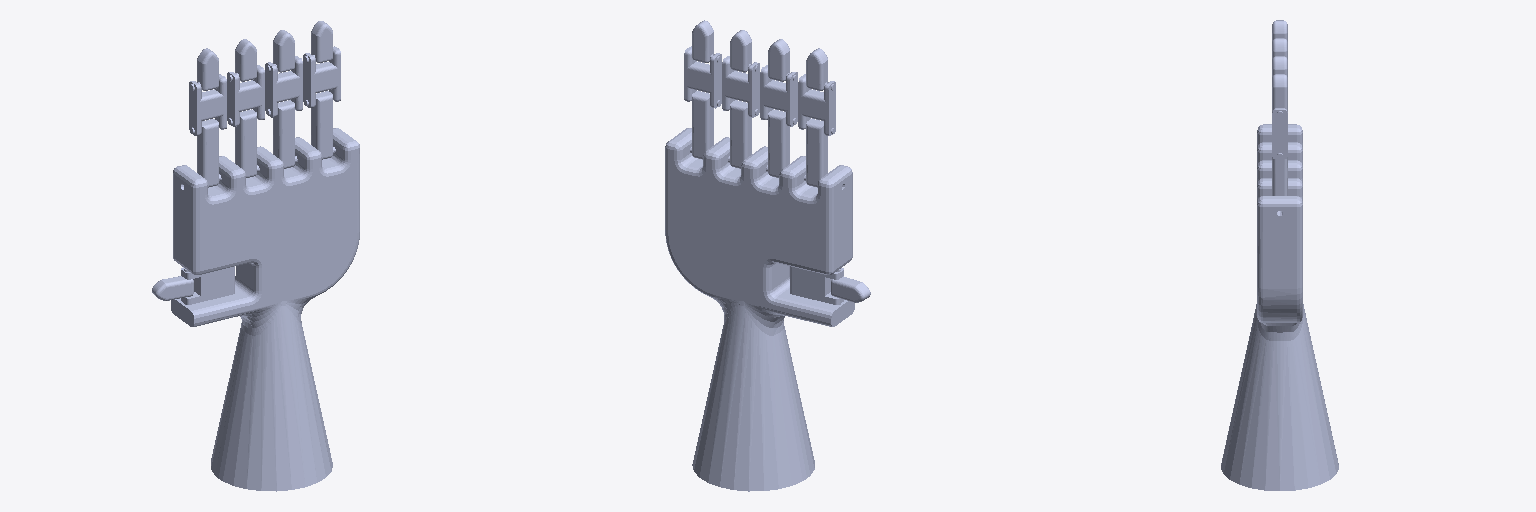
--- What the picture shows (computed from the rendered views, not written in the file) ---
3 views of the same robot in one strip: view 1: azimuth 30°, elevation 25°; view 2: azimuth 150°, elevation 25°; view 3: azimuth 270°, elevation 25° (orthographic).
Model hand_bot with 16 links and 15 joints (14 continuous, 1 fixed), rooted at dummy_link, posed every joint at zero.
Links seen in each view (by area): view 1: base_link, little_middle, ring_middle, index_middle, middle_middle, ring_lower, middle_lower, thumb_lower, index_lower, little_lower, index_tip, middle_tip (+3 smaller); view 2: base_link, ring_middle, index_middle, little_middle, middle_middle, index_lower, middle_lower, ring_lower, little_lower, thumb_lower, middle_tip, little_tip (+3 smaller); view 3: base_link, little_middle, little_lower, little_tip.
Boxes of the visible links, bbox=[...] form: base_link: bbox=[171, 128, 359, 491]; little_middle: bbox=[303, 46, 340, 107]; ring_middle: bbox=[265, 56, 302, 117]; index_middle: bbox=[189, 74, 226, 135]; middle_middle: bbox=[227, 65, 264, 126]; ring_lower: bbox=[266, 100, 297, 168]; middle_lower: bbox=[228, 109, 259, 177]; thumb_lower: bbox=[181, 266, 234, 304]; index_lower: bbox=[190, 119, 221, 187]; little_lower: bbox=[304, 91, 335, 159]; index_tip: bbox=[190, 48, 225, 90]; middle_tip: bbox=[228, 39, 262, 81]; base_link: bbox=[665, 128, 854, 491]; ring_middle: bbox=[722, 56, 759, 117]; index_middle: bbox=[798, 74, 835, 135]; little_middle: bbox=[684, 46, 721, 108]; middle_middle: bbox=[760, 65, 797, 126]; index_lower: bbox=[804, 119, 835, 187]; middle_lower: bbox=[766, 109, 797, 177]; ring_lower: bbox=[728, 100, 759, 168]; little_lower: bbox=[690, 91, 720, 159]; thumb_lower: bbox=[790, 266, 843, 304]; middle_tip: bbox=[762, 39, 797, 81]; little_tip: bbox=[687, 20, 721, 62]; base_link: bbox=[1221, 124, 1338, 490]; little_middle: bbox=[1272, 108, 1287, 158]; little_lower: bbox=[1272, 153, 1287, 195]; little_tip: bbox=[1272, 74, 1287, 116].
Size in the robot's own frame: 0.1821 by 0.0992 by 0.3838 metres.
Meshes: 15 distinct files referenced, 15 mesh visuals loaded (15 binary STL).

robot.urdf — hand_bot:
<?xml version="1.0" encoding="utf-8"?>
<!-- This URDF was automatically created by SolidWorks to URDF Exporter! Originally created by Stephen Brawner ([email redacted]) 
     Commit Version: 1.6.0-4-g7f85cfe  Build Version: 1.6.7995.38578
     For more information, please see http://wiki.ros.org/sw_urdf_exporter -->
<robot
  name="hand_bot">
  <link name="dummy_link">
  <pos> 0 0 0 0 0 0 </pos>
  </link>
  <link
    name="base_link">
    <inertial>
      <origin
        xyz="-0.000703383166695187 1.43764231769206E-08 0.135753029524943"
        rpy="0 0 0" />
      <mass
        value="1.22844417241001" />
      <inertia
        ixx="0.00974290219860664"
        ixy="4.67625509381875E-10"
        ixz="0.000116051539380149"
        iyy="0.0108591675634407"
        iyz="-2.30309518757341E-10"
        izz="0.00173369930030835" />
    </inertial>
    <visual>
      <origin
        xyz="-0.03 0 0"
        rpy="0 0 0" />
      <geometry>
        <mesh
          filename="package://hand_bot/meshes/base_link.STL" />
      </geometry>
      <material
        name="">
        <color
          rgba="0.792156862745098 0.819607843137255 0.933333333333333 1" />
      </material>
    </visual>
    <collision>
      <origin
        xyz="0 0 0"
        rpy="0 0 0" />
      <geometry>
        <mesh
          filename="package://hand_bot/meshes/base_link.STL" />
      </geometry>
    </collision>
  </link>
  <joint name="dummy_link_joint" type="fixed">
  <parent link="dummy_link" />
  <child link="base_link" />
  </joint>
  <link
    name="thumb_lower">
    <inertial>
      <origin
        xyz="-0.0146717254719545 8.89402371266196E-05 0.034009"
        rpy="0 0 0" />
      <mass
        value="0.0141913225410551" />
      <inertia
        ixx="1.73105534034488E-06"
        ixy="1.06627125713534E-08"
        ixz="6.85563856724106E-22"
        iyy="3.48992902687173E-06"
        iyz="6.18276166292801E-23"
        izz="2.1183781527226E-06" />
    </inertial>
    <visual>
      <origin
        xyz="0 0 0"
        rpy="0 0 0" />
      <geometry>
        <mesh
          filename="package://hand_bot/meshes/thumb_lower.STL" />
      </geometry>
      <material
        name="">
        <color
          rgba="0.792156862745098 0.819607843137255 0.933333333333333 1" />
      </material>
    </visual>
    <collision>
      <origin
        xyz="0 0 0"
        rpy="0 0 0" />
      <geometry>
        <mesh
          filename="package://hand_bot/meshes/thumb_lower.STL" />
      </geometry>
    </collision>
  </link>
  <joint
    name="thumb_lower_joint"
    type="continuous">
    <origin
      xyz="-0.0697904945163514 0 0.144205013943543"
      rpy="0 0 0" />
    <parent
      link="base_link" />
    <child
      link="thumb_lower" />
    <axis
      xyz="0 0 1" />
  </joint>
  <link
    name="thumb_tip">
    <inertial>
      <origin
        xyz="-0.0108563056382985 0.00118581516066497 0.0154906157070203"
        rpy="0 0 0" />
      <mass
        value="0.00619150344597553" />
      <inertia
        ixx="2.34028685837351E-07"
        ixy="4.71131557974681E-08"
        ixz="-1.79641579500449E-09"
        iyy="6.60204648356565E-07"
        iyz="1.96731292775481E-10"
        izz="5.82123696956229E-07" />
    </inertial>
    <visual>
      <origin
        xyz="0 0 0"
        rpy="0 0 0" />
      <geometry>
        <mesh
          filename="package://hand_bot/meshes/thumb_tip.STL" />
      </geometry>
      <material
        name="">
        <color
          rgba="0.792156862745098 0.819607843137255 0.933333333333333 1" />
      </material>
    </visual>
    <collision>
      <origin
        xyz="0 0 0"
        rpy="0 0 0" />
      <geometry>
        <mesh
          filename="package://hand_bot/meshes/thumb_tip.STL" />
      </geometry>
    </collision>
  </link>
  <joint
    name="thumb_tip_joint"
    type="continuous">
    <origin
      xyz="-0.0387855356827445 0.000235118544666083 0.018499"
      rpy="0 0 0" />
    <parent
      link="thumb_lower" />
    <child
      link="thumb_tip" />
    <axis
      xyz="0 0 -1" />
  </joint>
  <link
    name="index_lower">
    <inertial>
      <origin
        xyz="0.0239088703056435 2.59556670254013E-09 0.015510005969888"
        rpy="0 0 0" />
      <mass
        value="0.0113540384293597" />
      <inertia
        ixx="4.43227782507445E-07"
        ixy="3.60087547476363E-13"
        ixz="1.28850285618581E-12"
        iyy="3.4209336950663E-06"
        iyz="2.74080827858553E-12"
        izz="3.24606186087563E-06" />
    </inertial>
    <visual>
      <origin
        xyz="0 0 0"
        rpy="0 0 0" />
      <geometry>
        <mesh
          filename="package://hand_bot/meshes/index_lower.STL" />
      </geometry>
      <material
        name="">
        <color
          rgba="0.792156862745098 0.819607843137255 0.933333333333333 1" />
      </material>
    </visual>
    <collision>
      <origin
        xyz="0 0 0"
        rpy="0 0 0" />
      <geometry>
        <mesh
          filename="package://hand_bot/meshes/index_lower.STL" />
      </geometry>
    </collision>
  </link>
  <joint
    name="index_lower_joint"
    type="continuous">
    <origin
      xyz="-0.0737440061993371 0 0.267773316384999"
      rpy="0 -1.5707963267949 0" />
    <parent
      link="base_link" />
    <child
      link="index_lower" />
    <axis
      xyz="0 0 -1" />
  </joint>
  <link
    name="index_middle">
    <inertial>
      <origin
        xyz="0.0193931241612039 6.93889390390723E-18 -0.0909720143523135"
        rpy="0 0 0" />
      <mass
        value="0.0099754284930005" />
      <inertia
        ixx="9.63331774115533E-07"
        ixy="-4.54052082283278E-13"
        ixz="1.65184323422484E-13"
        iyy="1.77529238382157E-06"
        iyz="-3.90739595474209E-23"
        izz="1.07733730138E-06" />
    </inertial>
    <visual>
      <origin
        xyz="0 0 0"
        rpy="0 0 0" />
      <geometry>
        <mesh
          filename="package://hand_bot/meshes/index_middle.STL" />
      </geometry>
      <material
        name="">
        <color
          rgba="0.792156862745098 0.819607843137255 0.933333333333333 1" />
      </material>
    </visual>
    <collision>
      <origin
        xyz="0 0 0"
        rpy="0 0 0" />
      <geometry>
        <mesh
          filename="package://hand_bot/meshes/index_middle.STL" />
      </geometry>
    </collision>
  </link>
  <joint
    name="index_middle_joint"
    type="continuous">
    <origin
      xyz="0.0476453307518057 0 0.106482"
      rpy="0 0 0" />
    <parent
      link="index_lower" />
    <child
      link="index_middle" />
    <axis
      xyz="0 0 -1" />
  </joint>
  <link
    name="index_tip">
    <inertial>
      <origin
        xyz="0.0109208761883658 2.65025172987987E-09 0.0154906154914554"
        rpy="0 0 0" />
      <mass
        value="0.00619150336790514" />
      <inertia
        ixx="2.2888252475664E-07"
        ixy="4.82972895855026E-13"
        ixz="1.80715409289673E-09"
        iyy="6.65350789864724E-07"
        iyz="-5.2069947345574E-13"
        izz="5.82123714231468E-07" />
    </inertial>
    <visual>
      <origin
        xyz="0 0 0"
        rpy="0 0 0" />
      <geometry>
        <mesh
          filename="package://hand_bot/meshes/index_tip.STL" />
      </geometry>
      <material
        name="">
        <color
          rgba="0.792156862745098 0.819607843137255 0.933333333333333 1" />
      </material>
    </visual>
    <collision>
      <origin
        xyz="0 0 0"
        rpy="0 0 0" />
      <geometry>
        <mesh
          filename="package://hand_bot/meshes/index_tip.STL" />
      </geometry>
    </collision>
  </link>
  <joint
    name="index_tip_joint"
    type="continuous">
    <origin
      xyz="0.0387862483224079 0 -0.106482"
      rpy="0 0 0" />
    <parent
      link="index_middle" />
    <child
      link="index_tip" />
    <axis
      xyz="0 0 -1" />
  </joint>
  <link
    name="middle_lower">
    <inertial>
      <origin
        xyz="0.0239088703056435 2.61630045059191E-09 0.015510005969888"
        rpy="0 0 0" />
      <mass
        value="0.0113540384293597" />
      <inertia
        ixx="4.43227782507465E-07"
        ixy="3.57505283708545E-13"
        ixz="1.28850285366496E-12"
        iyy="3.42093369506633E-06"
        iyz="2.74080828144101E-12"
        izz="3.24606186087563E-06" />
    </inertial>
    <visual>
      <origin
        xyz="0 0 0"
        rpy="0 0 0" />
      <geometry>
        <mesh
          filename="package://hand_bot/meshes/middle_lower.STL" />
      </geometry>
      <material
        name="">
        <color
          rgba="0.792156862745098 0.819607843137255 0.933333333333333 1" />
      </material>
    </visual>
    <collision>
      <origin
        xyz="0 0 0"
        rpy="0 0 0" />
      <geometry>
        <mesh
          filename="package://hand_bot/meshes/middle_lower.STL" />
      </geometry>
    </collision>
  </link>
  <joint
    name="middle_lower_joint"
    type="continuous">
    <origin
      xyz="-0.0382500061993371 0 0.267773316384999"
      rpy="0 -1.5707963267949 0" />
    <parent
      link="base_link" />
    <child
      link="middle_lower" />
    <axis
      xyz="0 0 -1" />
  </joint>
  <link
    name="middle_middle">
    <inertial>
      <origin
        xyz="0.0193931241612039 4.13179872260638E-11 0.0155099856476866"
        rpy="0 0 0" />
      <mass
        value="0.00997542849300048" />
      <inertia
        ixx="9.63331774115532E-07"
        ixy="-4.54052082609228E-13"
        ixz="1.65184323690672E-13"
        iyy="1.77529238382157E-06"
        iyz="-6.5535389975188E-24"
        izz="1.07733730138E-06" />
    </inertial>
    <visual>
      <origin
        xyz="0 0 0"
        rpy="0 0 0" />
      <geometry>
        <mesh
          filename="package://hand_bot/meshes/middle_middle.STL" />
      </geometry>
      <material
        name="">
        <color
          rgba="0.792156862745098 0.819607843137255 0.933333333333333 1" />
      </material>
    </visual>
    <collision>
      <origin
        xyz="0 0 0"
        rpy="0 0 0" />
      <geometry>
        <mesh
          filename="package://hand_bot/meshes/middle_middle.STL" />
      </geometry>
    </collision>
  </link>
  <joint
    name="middle_middle_joint"
    type="continuous">
    <origin
      xyz="0.0476453307518057 0 0"
      rpy="0 0 0" />
    <parent
      link="middle_lower" />
    <child
      link="middle_middle" />
    <axis
      xyz="0 0 -1" />
  </joint>
  <link
    name="middle_tip">
    <inertial>
      <origin
        xyz="0.0109208761883657 2.69156971363649E-09 0.0154906154914554"
        rpy="0 0 0" />
      <mass
        value="0.00619150336790513" />
      <inertia
        ixx="2.2888252475664E-07"
        ixy="4.82972895735831E-13"
        ixz="1.80715409289735E-09"
        iyy="6.65350789864723E-07"
        iyz="-5.20699473353211E-13"
        izz="5.82123714231467E-07" />
    </inertial>
    <visual>
      <origin
        xyz="0 0 0"
        rpy="0 0 0" />
      <geometry>
        <mesh
          filename="package://hand_bot/meshes/middle_tip.STL" />
      </geometry>
      <material
        name="">
        <color
          rgba="0.792156862745098 0.819607843137255 0.933333333333333 1" />
      </material>
    </visual>
    <collision>
      <origin
        xyz="0 0 0"
        rpy="0 0 0" />
      <geometry>
        <mesh
          filename="package://hand_bot/meshes/middle_tip.STL" />
      </geometry>
    </collision>
  </link>
  <joint
    name="middle_tip_joint"
    type="continuous">
    <origin
      xyz="0.038786248322408 0 0"
      rpy="0 0 0" />
    <parent
      link="middle_middle" />
    <child
      link="middle_tip" />
    <axis
      xyz="0 0 -1" />
  </joint>
  <link
    name="ring_lower">
    <inertial>
      <origin
        xyz="0.0239088703056435 2.59265503163575E-09 0.0155100059698881"
        rpy="0 0 0" />
      <mass
        value="0.0113540384293597" />
      <inertia
        ixx="4.43227782507485E-07"
        ixy="3.60450178164727E-13"
        ixz="1.28850285652171E-12"
        iyy="3.42093369506635E-06"
        iyz="2.74080828173263E-12"
        izz="3.24606186087564E-06" />
    </inertial>
    <visual>
      <origin
        xyz="0 0 0"
        rpy="0 0 0" />
      <geometry>
        <mesh
          filename="package://hand_bot/meshes/ring_lower.STL" />
      </geometry>
      <material
        name="">
        <color
          rgba="0.792156862745098 0.819607843137255 0.933333333333333 1" />
      </material>
    </visual>
    <collision>
      <origin
        xyz="0 0 0"
        rpy="0 0 0" />
      <geometry>
        <mesh
          filename="package://hand_bot/meshes/ring_lower.STL" />
      </geometry>
    </collision>
  </link>
  <joint
    name="ring_lower_joint"
    type="continuous">
    <origin
      xyz="-0.00275600619933707 0 0.267773316384999"
      rpy="0 -1.5707963267949 0" />
    <parent
      link="base_link" />
    <child
      link="ring_lower" />
    <axis
      xyz="0 0 -1" />
  </joint>
  <link
    name="ring_middle">
    <inertial>
      <origin
        xyz="0.019393124161204 -5.80234471581065E-12 0.0155099856476866"
        rpy="0 0 0" />
      <mass
        value="0.00997542849300049" />
      <inertia
        ixx="9.63331774115532E-07"
        ixy="-4.540520828448E-13"
        ixz="1.65184323273074E-13"
        iyy="1.77529238382157E-06"
        iyz="1.02337713131639E-22"
        izz="1.07733730138E-06" />
    </inertial>
    <visual>
      <origin
        xyz="0 0 0"
        rpy="0 0 0" />
      <geometry>
        <mesh
          filename="package://hand_bot/meshes/ring_middle.STL" />
      </geometry>
      <material
        name="">
        <color
          rgba="0.792156862745098 0.819607843137255 0.933333333333333 1" />
      </material>
    </visual>
    <collision>
      <origin
        xyz="0 0 0"
        rpy="0 0 0" />
      <geometry>
        <mesh
          filename="package://hand_bot/meshes/ring_middle.STL" />
      </geometry>
    </collision>
  </link>
  <joint
    name="ring_middle_joint"
    type="continuous">
    <origin
      xyz="0.0476453307518057 0 0"
      rpy="0 0 0" />
    <parent
      link="ring_lower" />
    <child
      link="ring_middle" />
    <axis
      xyz="0 0 -1" />
  </joint>
  <link
    name="ring_tip">
    <inertial>
      <origin
        xyz="0.0109208761883658 2.6444493955724E-09 0.0154906154914554"
        rpy="0 0 0" />
      <mass
        value="0.00619150336790517" />
      <inertia
        ixx="2.28882524756641E-07"
        ixy="4.82972896413741E-13"
        ixz="1.80715409289713E-09"
        iyy="6.65350789864727E-07"
        iyz="-5.20699473423045E-13"
        izz="5.82123714231471E-07" />
    </inertial>
    <visual>
      <origin
        xyz="0 0 0"
        rpy="0 0 0" />
      <geometry>
        <mesh
          filename="package://hand_bot/meshes/ring_tip.STL" />
      </geometry>
      <material
        name="">
        <color
          rgba="0.792156862745098 0.819607843137255 0.933333333333333 1" />
      </material>
    </visual>
    <collision>
      <origin
        xyz="0 0 0"
        rpy="0 0 0" />
      <geometry>
        <mesh
          filename="package://hand_bot/meshes/ring_tip.STL" />
      </geometry>
    </collision>
  </link>
  <joint
    name="ring_tip_joint"
    type="continuous">
    <origin
      xyz="0.0387862483224079 0 0"
      rpy="0 0 0" />
    <parent
      link="ring_middle" />
    <child
      link="ring_tip" />
    <axis
      xyz="0 0 -1" />
  </joint>
  <link
    name="little_lower">
    <inertial>
      <origin
        xyz="0.0239088683918271 1.99144321866296E-09 0.0155100055183267"
        rpy="0 0 0" />
      <mass
        value="0.0113540369936257" />
      <inertia
        ixx="4.43227714055476E-07"
        ixy="5.07497838099468E-13"
        ixz="1.3999697583594E-12"
        iyy="3.42093314705532E-06"
        iyz="2.78183403666697E-12"
        izz="3.2460613149603E-06" />
    </inertial>
    <visual>
      <origin
        xyz="0 0 0"
        rpy="0 0 0" />
      <geometry>
        <mesh
          filename="package://hand_bot/meshes/little_lower.STL" />
      </geometry>
      <material
        name="">
        <color
          rgba="0.792156862745098 0.819607843137255 0.933333333333333 1" />
      </material>
    </visual>
    <collision>
      <origin
        xyz="0 0 0"
        rpy="0 0 0" />
      <geometry>
        <mesh
          filename="package://hand_bot/meshes/little_lower.STL" />
      </geometry>
    </collision>
  </link>
  <joint
    name="little_lower_joint"
    type="continuous">
    <origin
      xyz="0.0327379938006629 0 0.267773316384999"
      rpy="0 -1.5707963267949 0" />
    <parent
      link="base_link" />
    <child
      link="little_lower" />
    <axis
      xyz="0 0 1" />
  </joint>
  <link
    name="little_middle">
    <inertial>
      <origin
        xyz="0.0193931241612039 4.71054306672158E-11 0.0155099856476866"
        rpy="0 0 0" />
      <mass
        value="0.0099754284930005" />
      <inertia
        ixx="9.63331774115533E-07"
        ixy="-4.54052082563687E-13"
        ixz="1.65184323153488E-13"
        iyy="1.77529238382157E-06"
        iyz="2.41833314434403E-23"
        izz="1.07733730138E-06" />
    </inertial>
    <visual>
      <origin
        xyz="0 0 0"
        rpy="0 0 0" />
      <geometry>
        <mesh
          filename="package://hand_bot/meshes/little_middle.STL" />
      </geometry>
      <material
        name="">
        <color
          rgba="0.792156862745098 0.819607843137255 0.933333333333333 1" />
      </material>
    </visual>
    <collision>
      <origin
        xyz="0 0 0"
        rpy="0 0 0" />
      <geometry>
        <mesh
          filename="package://hand_bot/meshes/little_middle.STL" />
      </geometry>
    </collision>
  </link>
  <joint
    name="little_middle_joint"
    type="continuous">
    <origin
      xyz="0.0476453307518057 0 0"
      rpy="0 0 0" />
    <parent
      link="little_lower" />
    <child
      link="little_middle" />
    <axis
      xyz="0 0 -1" />
  </joint>
  <link
    name="little_tip">
    <inertial>
      <origin
        xyz="0.0109208761883658 2.65025171947153E-09 0.0154906154914554"
        rpy="0 0 0" />
      <mass
        value="0.00619150336790515" />
      <inertia
        ixx="2.28882524756641E-07"
        ixy="4.82972896796076E-13"
        ixz="1.80715409289637E-09"
        iyy="6.65350789864726E-07"
        iyz="-5.20699473638216E-13"
        izz="5.82123714231469E-07" />
    </inertial>
    <visual>
      <origin
        xyz="0 0 0"
        rpy="0 0 0" />
      <geometry>
        <mesh
          filename="package://hand_bot/meshes/little_tip.STL" />
      </geometry>
      <material
        name="">
        <color
          rgba="0.792156862745098 0.819607843137255 0.933333333333333 1" />
      </material>
    </visual>
    <collision>
      <origin
        xyz="0 0 0"
        rpy="0 0 0" />
      <geometry>
        <mesh
          filename="package://hand_bot/meshes/little_tip.STL" />
      </geometry>
    </collision>
  </link>
  <joint
    name="little_tip_joint"
    type="continuous">
    <origin
      xyz="0.0387862483224079 0 0"
      rpy="0 0 0" />
    <parent
      link="little_middle" />
    <child
      link="little_tip" />
    <axis
      xyz="0 0 -1" />
  </joint>
  
   <transmission name="index_tip_trans">
  	<type>transmission_interface/SimpleTransmission</type>
  	<joint name="index_tip_joint">
    		<hardwareInterface>hardware_interface/PositionJointInterface</hardwareInterface>
  	</joint>
  	<actuator name="index_tip_joint_motor">
    		<mechanicalReduction>50</mechanicalReduction>
    		<hardwareInterface>hardware_interface/PositionJointInterface</hardwareInterface>
  	</actuator>
   </transmission>
  
  
   <transmission name="index_middle_trans">
  	<type>transmission_interface/SimpleTransmission</type>
  	<joint name="index_middle_joint">
    		<hardwareInterface>hardware_interface/PositionJointInterface</hardwareInterface>
  	</joint>
  	<actuator name="index_middle_joint_motor">
    		<mechanicalReduction>50</mechanicalReduction>
    		<hardwareInterface>hardware_interface/PositionJointInterface</hardwareInterface>
  	</actuator>
   </transmission> 
    
    
    
   <transmission name="index_lower_trans">
  	<type>transmission_interface/SimpleTransmission</type>
  	<joint name="index_lower_joint">
    		<hardwareInterface>hardware_interface/PositionJointInterface</hardwareInterface>
  	</joint>
  	<actuator name="index_lower_joint_motor">
    		<mechanicalReduction>50</mechanicalReduction>
    		<hardwareInterface>hardware_interface/PositionJointInterface</hardwareInterface>
  	</actuator>
   </transmission>
   
   
   <transmission name="middle_tip_trans">
  	<type>transmission_interface/SimpleTransmission</type>
  	<joint name="middle_tip_joint">
    		<hardwareInterface>hardware_interface/PositionJointInterface</hardwareInterface>
  	</joint>
  	<actuator name="middle_tip_joint_motor">
    		<mechanicalReduction>50</mechanicalReduction>
    		<hardwareInterface>hardware_interface/PositionJointInterface</hardwareInterface>
  	</actuator>
   </transmission>
   
   
   <transmission name="middle_middle_trans">
  	<type>transmission_interface/SimpleTransmission</type>
  	<joint name="middle_middle_joint">
    		<hardwareInterface>hardware_interface/PositionJointInterface</hardwareInterface>
  	</joint>
  	<actuator name="middle_middle_joint_motor">
    		<mechanicalReduction>50</mechanicalReduction>
    		<hardwareInterface>hardware_interface/PositionJointInterface</hardwareInterface>
  	</actuator>
   </transmission>
   
   
   <transmission name="middle_lower_trans">
  	<type>transmission_interface/SimpleTransmission</type>
  	<joint name="middle_lower_joint">
    		<hardwareInterface>hardware_interface/PositionJointInterface</hardwareInterface>
  	</joint>
  	<actuator name="middle_lower_joint_motor">
    		<mechanicalReduction>50</mechanicalReduction>
    		<hardwareInterface>hardware_interface/PositionJointInterface</hardwareInterface>
  	</actuator>
   </transmission>
   
   
   <transmission name="ring_tip_trans">
  	<type>transmission_interface/SimpleTransmission</type>
  	<joint name="ring_tip_joint">
    		<hardwareInterface>hardware_interface/PositionJointInterface</hardwareInterface>
  	</joint>
  	<actuator name="ring_tip_joint_motor">
    		<mechanicalReduction>50</mechanicalReduction>
    		<hardwareInterface>hardware_interface/PositionJointInterface</hardwareInterface>
  	</actuator>
   </transmission>
   
   
   <transmission name="ring_middle_trans">
  	<type>transmission_interface/SimpleTransmission</type>
  	<joint name="ring_middle_joint">
    		<hardwareInterface>hardware_interface/PositionJointInterface</hardwareInterface>
  	</joint>
  	<actuator name="ring_middle_joint_motor">
    		<mechanicalReduction>50</mechanicalReduction>
    		<hardwareInterface>hardware_interface/PositionJointInterface</hardwareInterface>
  	</actuator>
   </transmission>
   
   
   <transmission name="ring_lower_trans">
  	<type>transmission_interface/SimpleTransmission</type>
  	<joint name="ring_lower_joint">
    		<hardwareInterface>hardware_interface/PositionJointInterface</hardwareInterface>
  	</joint>
  	<actuator name="ring_lower_joint_motor">
    		<mechanicalReduction>50</mechanicalReduction>
    		<hardwareInterface>hardware_interface/PositionJointInterface</hardwareInterface>
  	</actuator>
   </transmission>
   
   
   <transmission name="little_tip_trans">
  	<type>transmission_interface/SimpleTransmission</type>
  	<joint name="little_tip_joint">
    		<hardwareInterface>hardware_interface/PositionJointInterface</hardwareInterface>
  	</joint>
  	<actuator name="little_tip_joint_motor">
    		<mechanicalReduction>50</mechanicalReduction>
    		<hardwareInterface>hardware_interface/PositionJointInterface</hardwareInterface>
  	</actuator>
   </transmission>
   
   
   <transmission name="little_middle_trans">
  	<type>transmission_interface/SimpleTransmission</type>
  	<joint name="little_middle_joint">
    		<hardwareInterface>hardware_interface/PositionJointInterface</hardwareInterface>
  	</joint>
  	<actuator name="little_middle_joint_motor">
    		<mechanicalReduction>50</mechanicalReduction>
    		<hardwareInterface>hardware_interface/PositionJointInterface</hardwareInterface>
  	</actuator>
   </transmission>
   
   <transmission name="little_lower_trans">
  	<type>transmission_interface/SimpleTransmission</type>
  	<joint name="little_lower_joint">
    		<hardwareInterface>hardware_interface/PositionJointInterface</hardwareInterface>
  	</joint>
  	<actuator name="little_lower_joint_motor">
    		<mechanicalReduction>50</mechanicalReduction>
    		<hardwareInterface>hardware_interface/PositionJointInterface</hardwareInterface>
  	</actuator>
   </transmission>
   
   
   <transmission name="thumb_lower_trans">
  	<type>transmission_interface/SimpleTransmission</type>
  	<joint name="thumb_lower_joint">
    		<hardwareInterface>hardware_interface/PositionJointInterface</hardwareInterface>
  	</joint>
  	<actuator name="thumb_lower_joint_motor">
    		<mechanicalReduction>50</mechanicalReduction>
    		<hardwareInterface>hardware_interface/PositionJointInterface</hardwareInterface>
  	</actuator>
   </transmission>
   
   
   <transmission name="thumb_tip_trans">
  	<type>transmission_interface/SimpleTransmission</type>
  	<joint name="thumb_tip_joint">
    		<hardwareInterface>hardware_interface/PositionJointInterface</hardwareInterface>
  	</joint>
  	<actuator name="thumb_tip_joint_motor">
    		<mechanicalReduction>50</mechanicalReduction>
    		<hardwareInterface>hardware_interface/PositionJointInterface</hardwareInterface>
  	</actuator>
    </transmission>
</robot>
